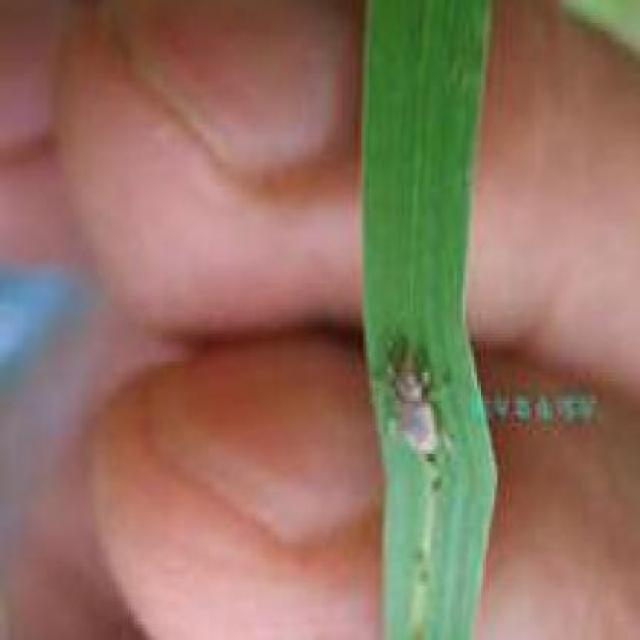rice-bug: (383, 338, 463, 462)
